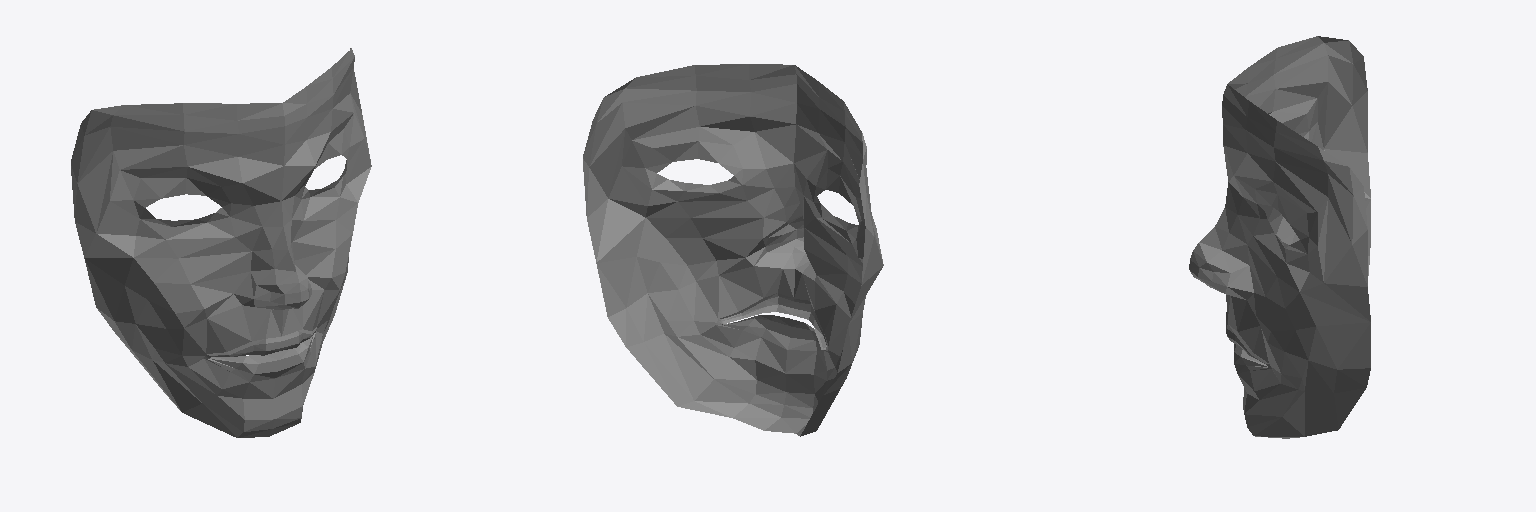
Rendered from Miguel3.obj.
The picture shows the model from 3 angles: view 1: azimuth 30°, elevation 25°; view 2: azimuth 150°, elevation 25°; view 3: azimuth 270°, elevation 25°; orthographic projection.
Visible parts, largest first — view 1: Plane003; view 2: Plane003; view 3: Plane003.
Boxes of the visible parts, x1,y1,x2,y2 form: Plane003: [71, 48, 371, 437]; Plane003: [583, 64, 883, 436]; Plane003: [1189, 36, 1370, 438].
Bounding box in the file's own units: 27.41 × 31.63 × 15.18.